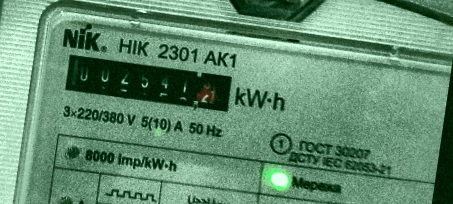0: (75, 60, 91, 82), (96, 61, 111, 83)
1: (177, 71, 191, 95)
2: (116, 63, 133, 87)
4: (157, 68, 171, 90)
5: (136, 66, 152, 90)
6: (198, 90, 210, 103)
screen: (50, 41, 245, 121)
